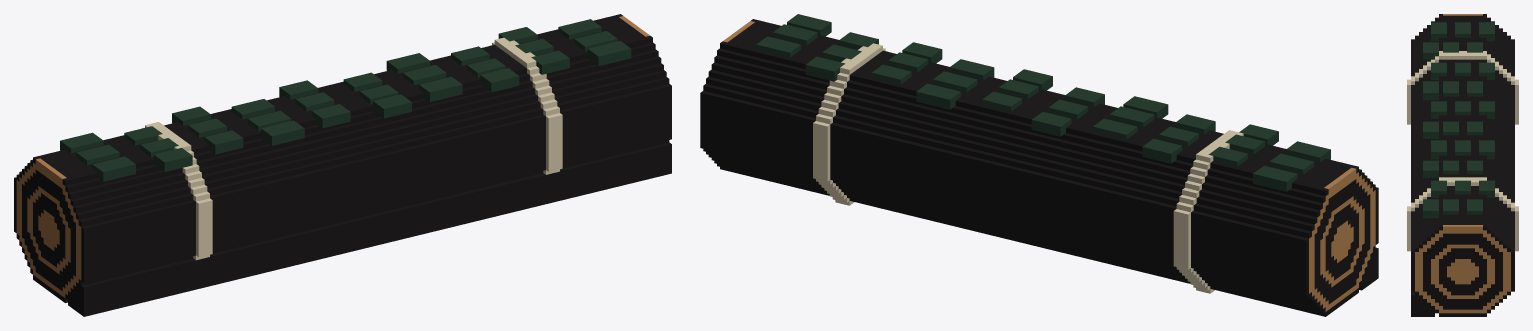
The model's file is black_dragon_hide.glb.
3 views of the same model, side by side, from view 1: azimuth 30°, elevation 25°; view 2: azimuth 150°, elevation 25°; view 3: azimuth 270°, elevation 25° (orthographic). The views are drawn at different scales.
Visible parts, largest first — view 1: black_dragon_hide:compound; view 2: black_dragon_hide:compound; view 3: black_dragon_hide:compound.
Boxes of the visible parts, x1,y1,x2,y2 form: black_dragon_hide:compound: [14, 14, 671, 316]; black_dragon_hide:compound: [700, 14, 1378, 316]; black_dragon_hide:compound: [1407, 14, 1518, 316].
Size of the model in its own units: 0.504 by 0.108 by 0.112.
